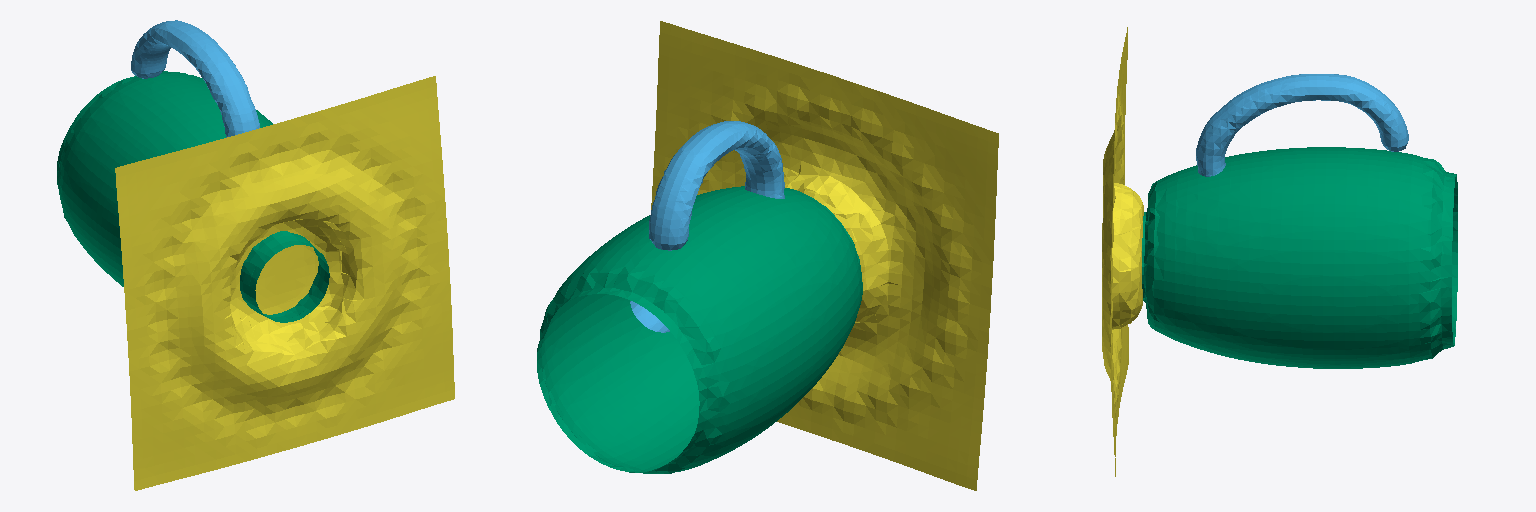
The robot description file, URDF, robot "cup":
<?xml version="0.0" ?>
<!-- <material name="cup_material">
  <texture filename="texture_image.png"/>
</material> -->
<robot name="cup">
	<link name="base"/>
	<joint name="j1" type="fixed">
    <parent link="base"/>
    <child link="cup_1"/>
    <origin xyz="0  0  0" rpy="0 0 0"/>
    <axis xyz="0 0 1"/>
  	</joint>
	<link name="cup_1">
		<inertial>
			<origin rpy="0.00000 -0.00000 0.00000" xyz="0.00000 0.00000 0.00000"/>
			<mass value="0.10000"/>
			<inertia ixx="0.00000" ixy="0" ixz="0" iyy="0.00000" iyz="0" izz="0.00000"/>
		</inertial>
		<visual>
      		<origin rpy="-0.00138374  0.01831255  0.03002321" xyz="0 0 0"/>
      		<geometry>
        		<mesh filename="1.obj"/>
      		</geometry>
    	</visual>
		<collision>
      		<origin rpy="0 0 0" xyz="0 0 0"/>
      		<geometry>
        		<mesh filename="1.obj"/>
      		</geometry>
    	</collision>
	</link>
	<joint name="j2" type="fixed">
    <parent link="base"/>
    <child link="cup_2"/>
    <origin xyz="0 0 0" rpy="0 0 0"/>
    <axis xyz="0 0 1"/>
  	</joint>
	<link name="cup_2">
		<inertial>
			<origin rpy="0.00000 -0.00000 0.00000" xyz="0.00000 0.00000 0.00000"/>
			<mass value="0.10000"/>
			<inertia ixx="0.00000" ixy="0" ixz="0" iyy="0.00000" iyz="0" izz="0.00000"/>
		</inertial>
		<visual>
      		<origin rpy="0.0021297   0.01365753 -0.03748605" xyz="0 0 0"/>
      		<geometry>
        		<mesh filename="2.obj"/>
      		</geometry>
    	</visual>
		<collision>
      		<origin rpy="0 0 0" xyz="0 0 0"/>
      		<geometry>
        		<mesh filename="2.obj"/>
      		</geometry>
    	</collision>
	</link>
	<joint name="j3" type="fixed">
    <parent link="base"/>
    <child link="cup_3"/>
    <origin xyz="0 0 0" rpy="0 0 0"/>
    <axis xyz="0 0 1"/>
  	</joint>
	<link name="cup_3">
		<inertial>
			<origin rpy="0.00000 -0.00000 0.00000" xyz="0.00000 0.00000 0.00000"/>
			<mass value="0.10000"/>
			<inertia ixx="0.00000" ixy="0" ixz="0" iyy="0.00000" iyz="0" izz="0.00000"/>
		</inertial>
		<visual>
      		<origin rpy="0.0013325  -0.06315503 -0.03840058" xyz="0 0 0"/>
      		<geometry>
        		<mesh filename="3.obj"/>
      		</geometry>
    	</visual>
		<collision>
      		<origin rpy="0 0 0" xyz="0 0 0"/>
      		<geometry>
        		<mesh filename="3.obj"/>
      		</geometry>
    	</collision>
	</link>
</robot>

--- Render facts (derived) ---
3 views of the same robot in one strip: view 1: azimuth 30°, elevation 25°; view 2: azimuth 150°, elevation 25°; view 3: azimuth 270°, elevation 25° (orthographic).
Model cup with 4 links and 3 joints (3 fixed), rooted at base, posed every joint at zero.
Visible links, largest first — view 1: cup_3, cup_2, cup_1; view 2: cup_3, cup_2, cup_1; view 3: cup_2, cup_3, cup_1.
Link boxes in pixels (x1,y1,x2,y2): cup_3: (115,76,454,490); cup_2: (57,71,329,322); cup_1: (131,20,259,137); cup_3: (651,21,998,490); cup_2: (537,186,862,473); cup_1: (630,121,784,332); cup_2: (1142,147,1457,368); cup_3: (1102,27,1143,476); cup_1: (1196,74,1408,176).
Size in the robot's own frame: 0.1923 by 0.178 by 0.196 metres.
3 mesh visuals loaded from 3 distinct referenced files (3 OBJ).